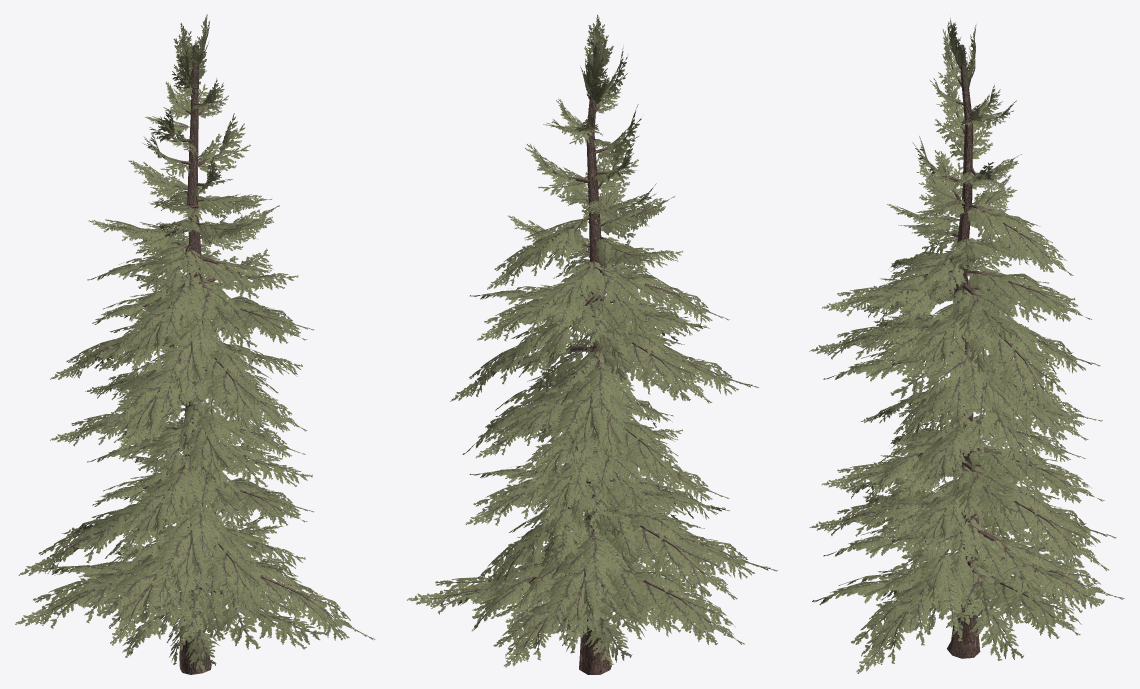
The model's file is SM_Fir2_Summer.fbx.
The picture shows the model from 3 angles, left to right: view 1: azimuth 30°, elevation 25°; view 2: azimuth 150°, elevation 25°; view 3: azimuth 270°, elevation 25°; orthographic projection. The views are drawn at different scales.
Parts seen in each view (by area): view 1: SM_Fir2_Summer_LOD0; view 2: SM_Fir2_Summer_LOD0; view 3: SM_Fir2_Summer_LOD0.
Part boxes in pixels (x1,y1,x2,y2): SM_Fir2_Summer_LOD0: (15,14,375,674); SM_Fir2_Summer_LOD0: (407,14,777,674); SM_Fir2_Summer_LOD0: (809,18,1124,673).
Bounding box in the file's own units: 1128 × 1064 × 2369.
2 materials, 2 textured.
